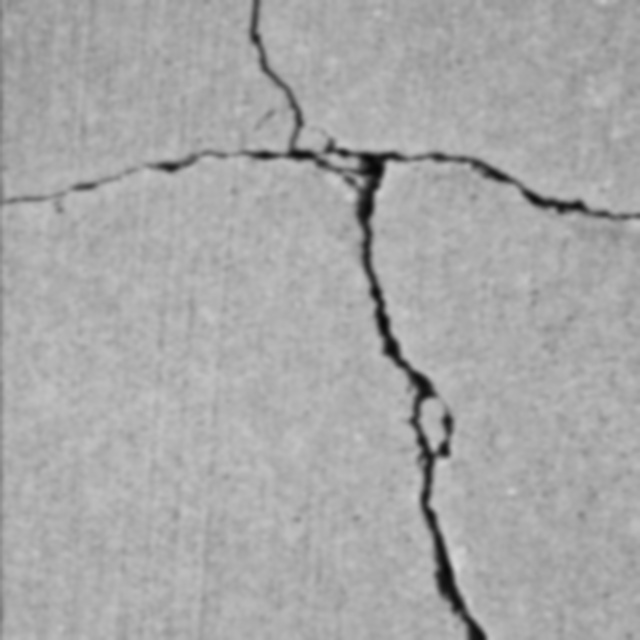SurfaceCrack: (315, 13, 543, 640)
